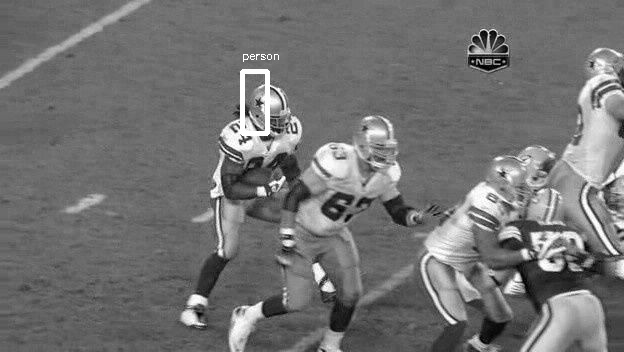person: (254, 85, 290, 131), (253, 85, 289, 131), (255, 85, 291, 131), (254, 84, 290, 130), (254, 86, 290, 132)
target_negative: (185, 103, 494, 191), (226, 70, 325, 283), (400, 135, 409, 254), (471, 186, 535, 201), (349, 311, 385, 336), (574, 251, 595, 284)
